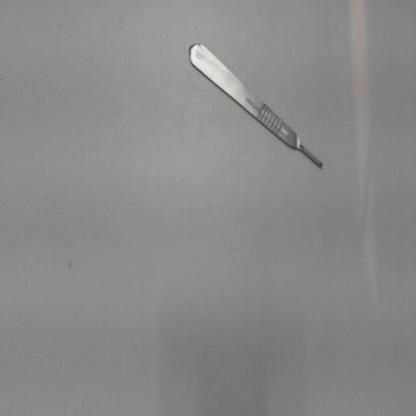No.3 BP Handle: (180, 22, 339, 189)
